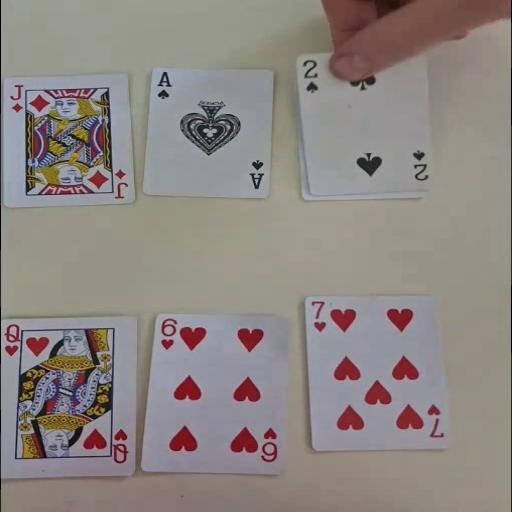2: (300, 57, 321, 94), (410, 148, 430, 182)
6: (258, 425, 279, 463), (158, 316, 178, 351)
7: (424, 402, 445, 438), (308, 298, 328, 334)
A: (246, 158, 266, 190), (154, 69, 173, 100)
J: (112, 167, 130, 199), (7, 83, 24, 113)
Q: (109, 426, 130, 465), (2, 322, 21, 357)
